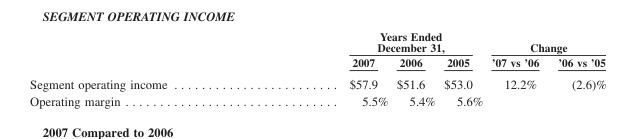table: (29, 28, 605, 108)
table column: (29, 28, 257, 108), (257, 28, 391, 108), (486, 28, 547, 108), (547, 28, 605, 108), (391, 28, 439, 108), (439, 28, 486, 108)
table column header: (29, 28, 605, 72)
table row: (29, 28, 605, 54), (29, 72, 605, 92), (29, 54, 605, 72), (29, 92, 605, 108)
table spanning cell: (257, 28, 486, 54), (486, 28, 605, 54)
